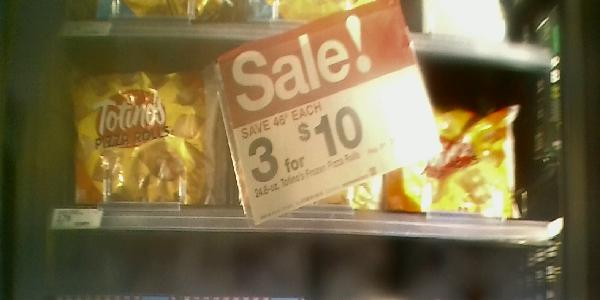icecream: (228, 50, 385, 211), (68, 58, 226, 210), (384, 96, 518, 223)
